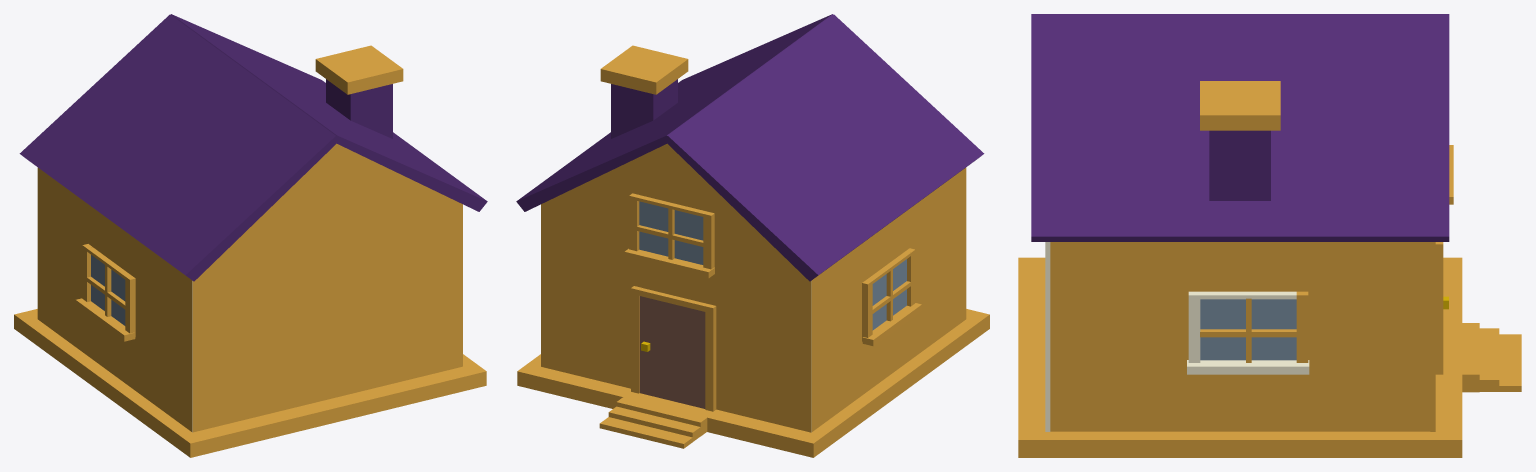
The model's file is Basic House Purple Roof.fbx.
3 views of the same model, side by side, from view 1: azimuth 30°, elevation 25°; view 2: azimuth 150°, elevation 25°; view 3: azimuth 270°, elevation 25° (orthographic). The views are drawn at different scales.
Parts seen in each view (by area): view 1: pasted__pasted__pasted__pCube1 (×2), pasted__pasted__pCube1, pasted__pCube1 (×2), pCube1, pasted__pCube2, pCube2, pasted__pasted__pasted__pasted__pasted__pCube1 (×2), pasted__pasted__pasted__pasted__pCube1; view 2: pasted__pasted__pCube1 (×3), pasted__pCube1 (×5), pCube1, pasted__pasted__pasted__pasted__pCube1 (×2), pasted__pasted__pasted__pasted__pasted__pCube1 (×4), pasted__pCube2, pCube2, pasted__pasted__pasted__pCube1 (×2); view 3: pasted__pCube1 (×3), pasted__pasted__pCube1 (×3), pCube1, pasted__pasted__pasted__pCube1 (×3), pCube2, pasted__pCube2, pasted__pasted__pasted__pasted__pCube1, pasted__pCube3.
Boxes of the visible parts, <box> form: pasted__pasted__pasted__pCube1 (×2): <box>82,143,462,432</box>; pasted__pasted__pCube1: <box>19,14,340,281</box>; pasted__pCube1 (×2): <box>37,14,487,432</box>; pCube1: <box>14,309,486,457</box>; pasted__pCube2: <box>315,45,403,94</box>; pCube2: <box>326,79,392,138</box>; pasted__pasted__pasted__pasted__pasted__pCube1 (×2): <box>75,275,135,341</box>; pasted__pasted__pasted__pasted__pCube1: <box>91,255,125,325</box>; pasted__pasted__pCube1 (×3): <box>541,14,984,432</box>; pasted__pCube1 (×5): <box>516,14,966,448</box>; pCube1: <box>517,309,989,457</box>; pasted__pasted__pasted__pasted__pCube1 (×2): <box>639,201,906,330</box>; pasted__pasted__pasted__pasted__pasted__pCube1 (×4): <box>624,211,921,346</box>; pasted__pCube2: <box>600,45,688,94</box>; pCube2: <box>611,79,677,138</box>; pasted__pasted__pasted__pCube1 (×2): <box>629,193,910,341</box>; pasted__pCube1 (×3): <box>1031,14,1521,392</box>; pasted__pasted__pCube1 (×3): <box>1050,242,1435,431</box>; pCube1: <box>1018,257,1462,457</box>; pasted__pasted__pasted__pCube1 (×3): <box>1045,242,1308,431</box>; pCube2: <box>1209,130,1270,200</box>; pasted__pCube2: <box>1200,81,1280,130</box>; pasted__pasted__pasted__pasted__pCube1: <box>1187,360,1309,374</box>; pasted__pCube3: <box>1200,329,1297,337</box>.
Bounding box in the file's own units: 7.12 × 6.34 × 8.15.
